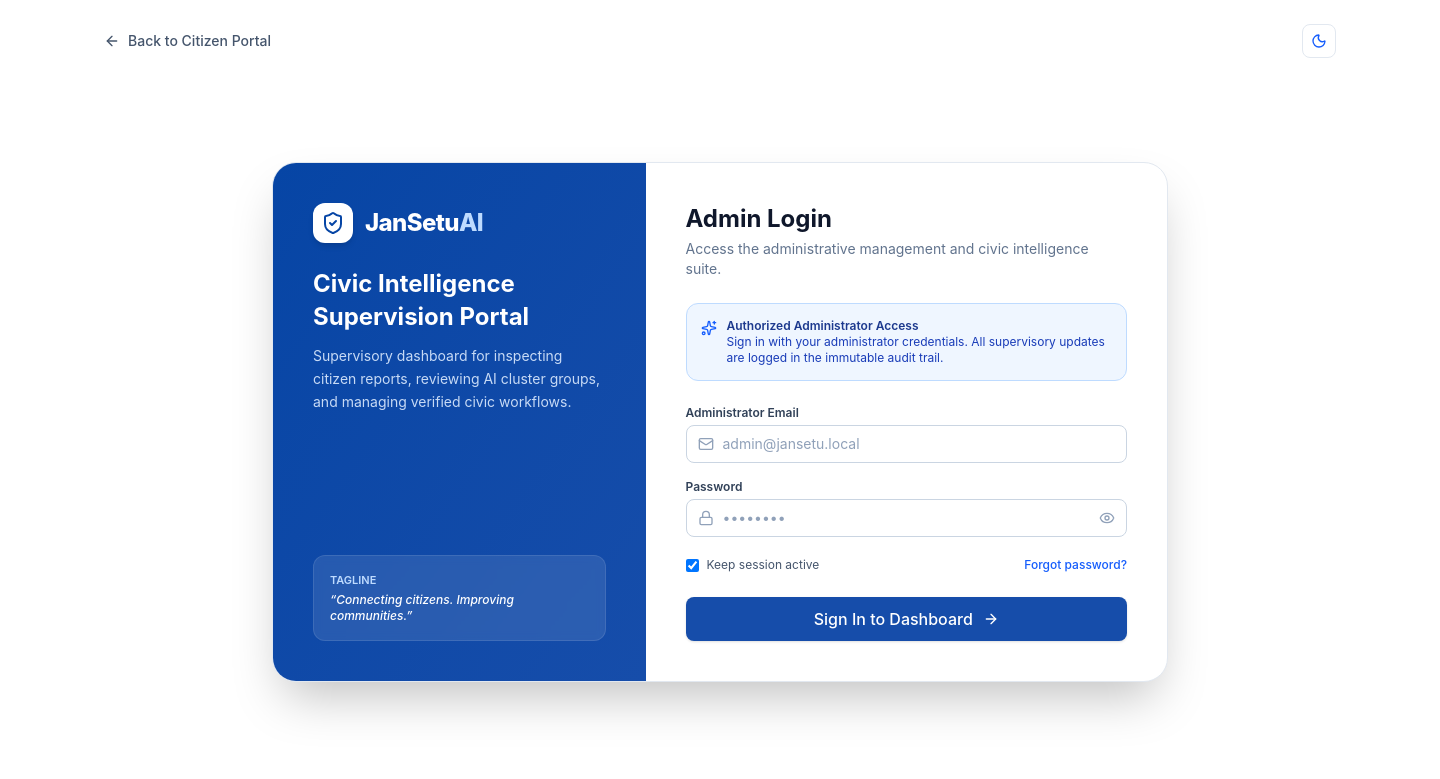
Test case: JanSetu AI Integrated Frontend Test Suite › 2. Admin login renders and authenticates via JWT backend API
Expected: the heading "Admin Login" is shown, x1=686 y1=204 x2=832 y2=233
Expected: the text "Authorized Administrator Access" is shown, x1=726 y1=318 x2=918 y2=333
Step 1. Type "admin.demo@jansetu.local" into the field with placeholder "admin@jansetu.local" → (906, 444), box x1=686 y1=425 x2=1127 y2=463
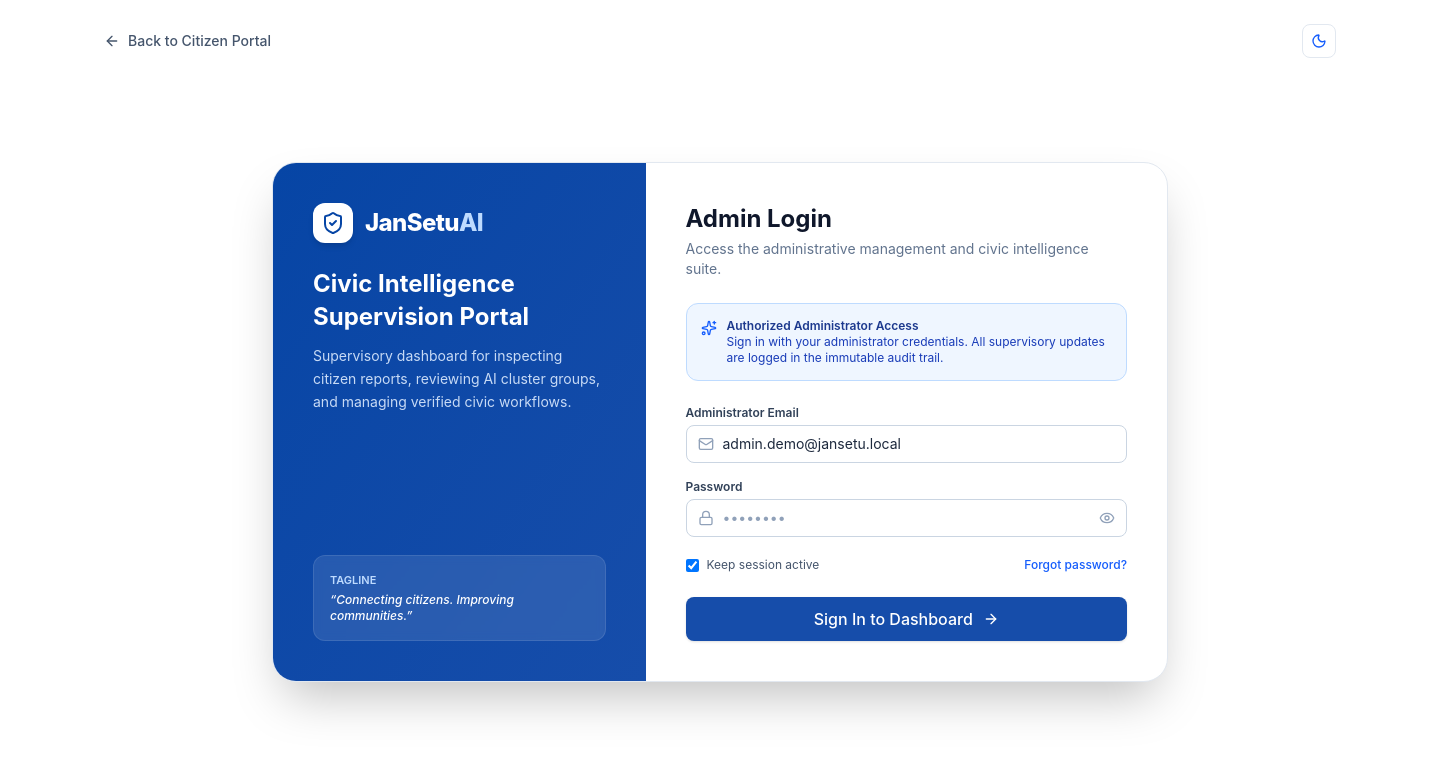
Step 2. Type "StrongAdminPass" into the password field with placeholder "••••••••" → (906, 518), box x1=686 y1=499 x2=1127 y2=537
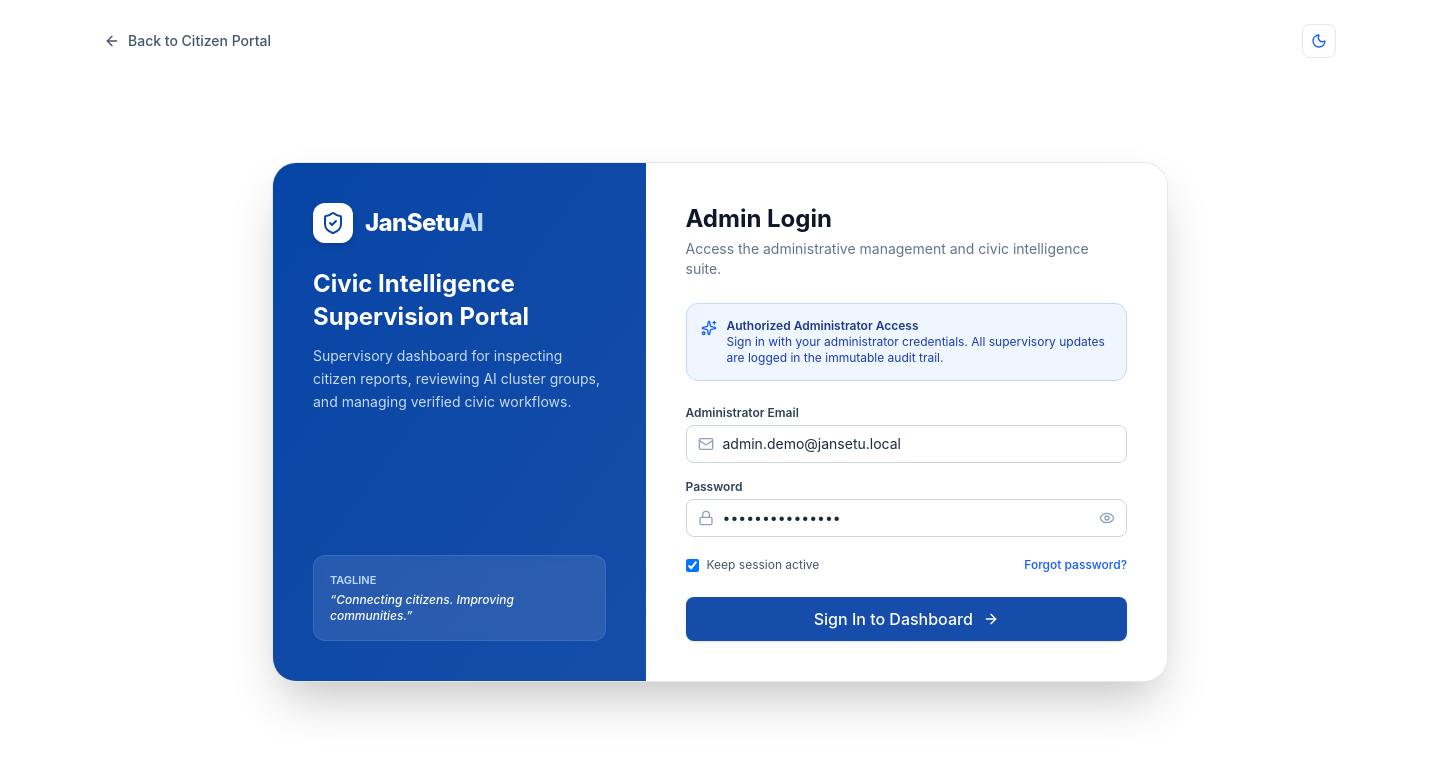
Step 3. Click the button "Sign In to Dashboard" → (906, 619), box x1=686 y1=597 x2=1127 y2=641
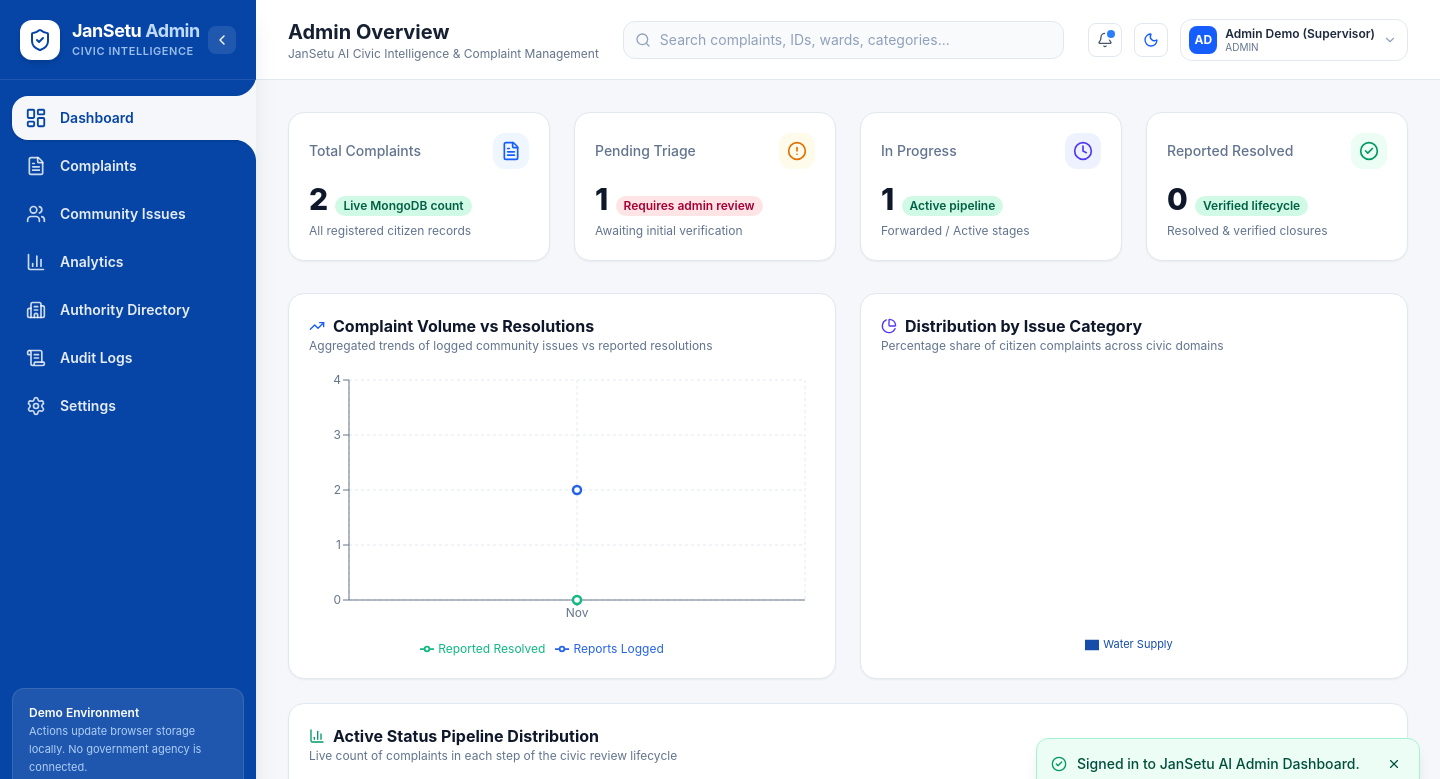
Expected: the heading "Admin Overview" is shown, x1=288 y1=20 x2=449 y2=44
